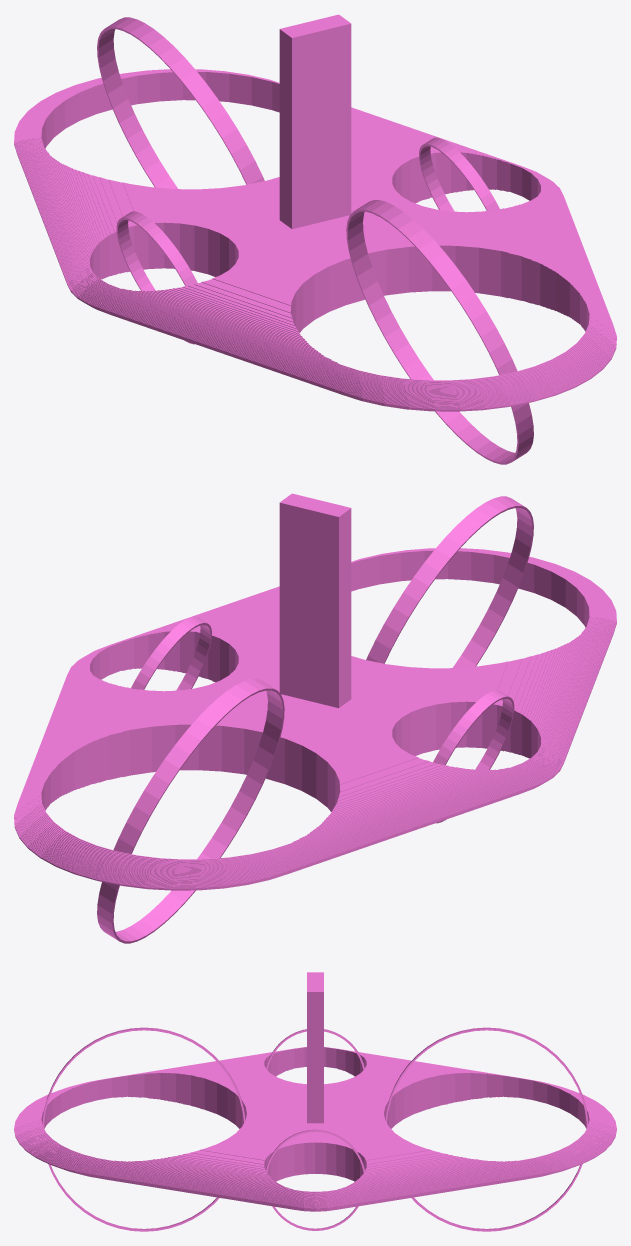
Rendered from small_hull.obj.
3 renders of one model, top to bottom at view 1: azimuth 30°, elevation 25°; view 2: azimuth 150°, elevation 25°; view 3: azimuth 270°, elevation 25°, orthographic. The views are drawn at different scales.
Parts seen in each view (by area): view 1: Hull; view 2: Hull; view 3: Hull.
Part boxes in pixels (x1,y1,x2,y2): Hull: (14, 14, 616, 464); Hull: (14, 493, 616, 943); Hull: (14, 972, 616, 1231).
Bounding box in the file's own units: 8.8 × 6.09 × 14.08.
